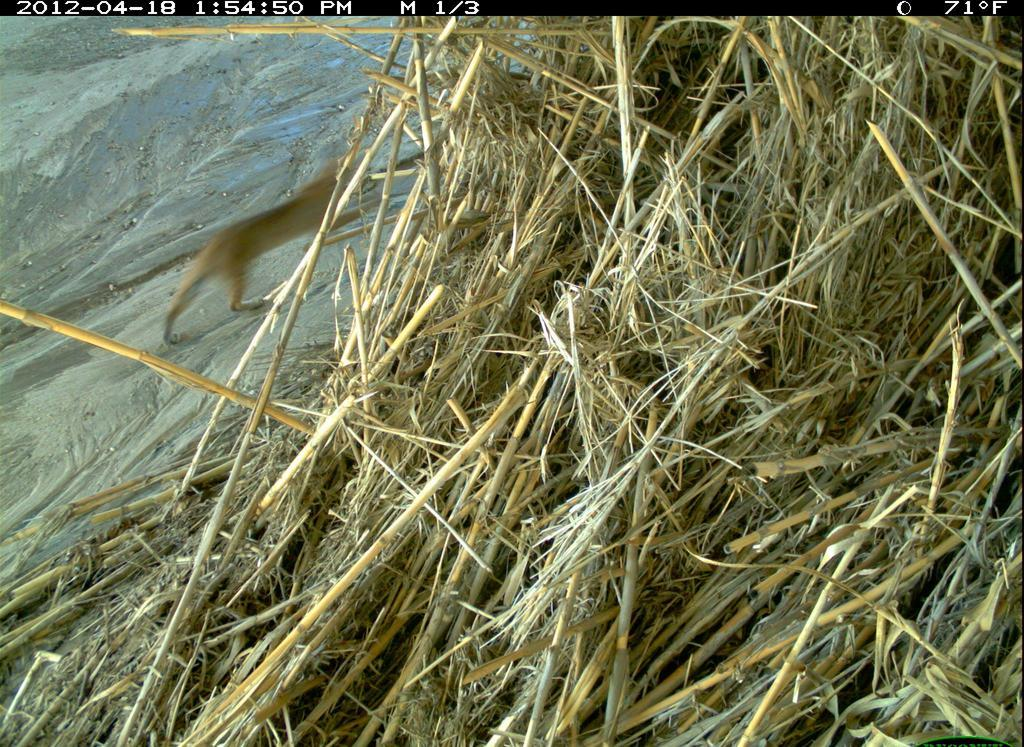bobcat: (149, 141, 397, 365)
